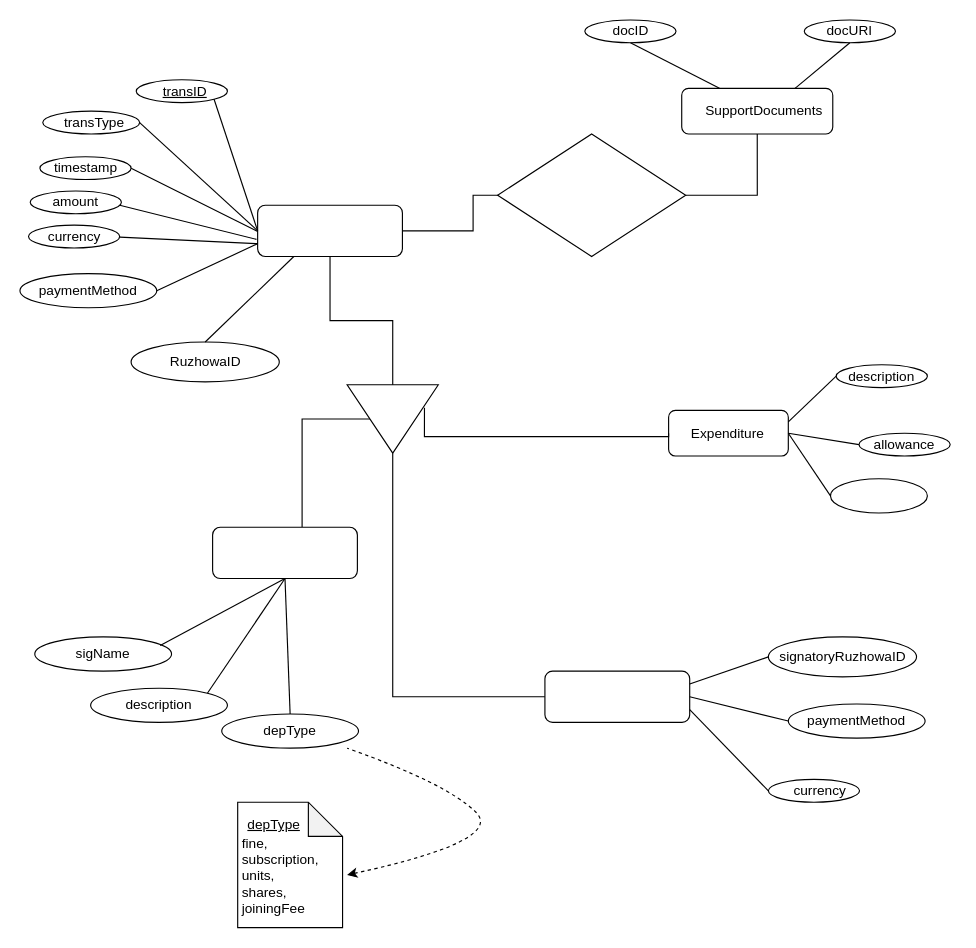
This 976x948 diagram has some shape labels left out. Each missing label, with the centre of its shape:
"HasSupportDocs" goes at point (591, 194).
"IS A" goes at point (392, 418).
"MemberDeposits" goes at point (284, 552).
"SFWAD" goes at point (878, 495).
"SignatoryDeposits" goes at point (617, 696).
"Transactions" goes at point (329, 230).
